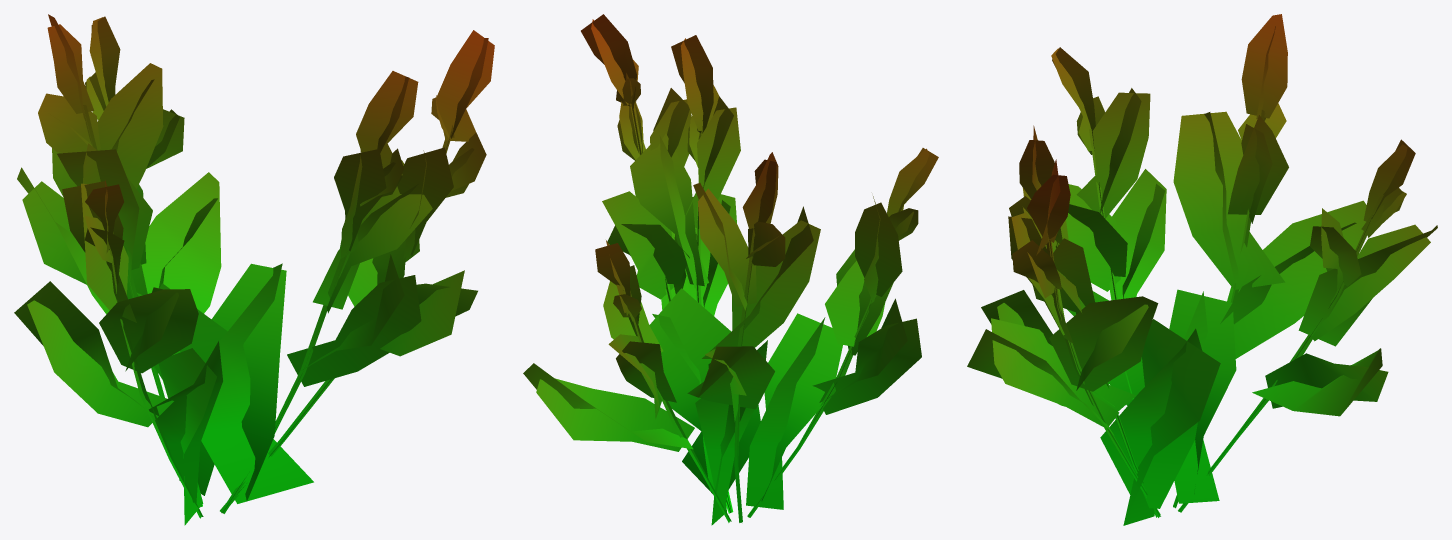
The model's file is Chamomile_LOD1_Var10_ujcnejvja.fbx.
3 renders of one model, left to right at view 1: azimuth 30°, elevation 25°; view 2: azimuth 150°, elevation 25°; view 3: azimuth 270°, elevation 25°, orthographic. The views are drawn at different scales.
Visible parts, largest first — view 1: _1i48_Var10_LOD1; view 2: _1i48_Var10_LOD1; view 3: _1i48_Var10_LOD1.
Part boxes in pixels (x1=…): _1i48_Var10_LOD1: x1=14, y1=14, x2=494, y2=525; _1i48_Var10_LOD1: x1=523, y1=14, x2=938, y2=525; _1i48_Var10_LOD1: x1=967, y1=14, x2=1437, y2=525.
Size of the model in its own units: 15.8 by 17.03 by 16.03.
